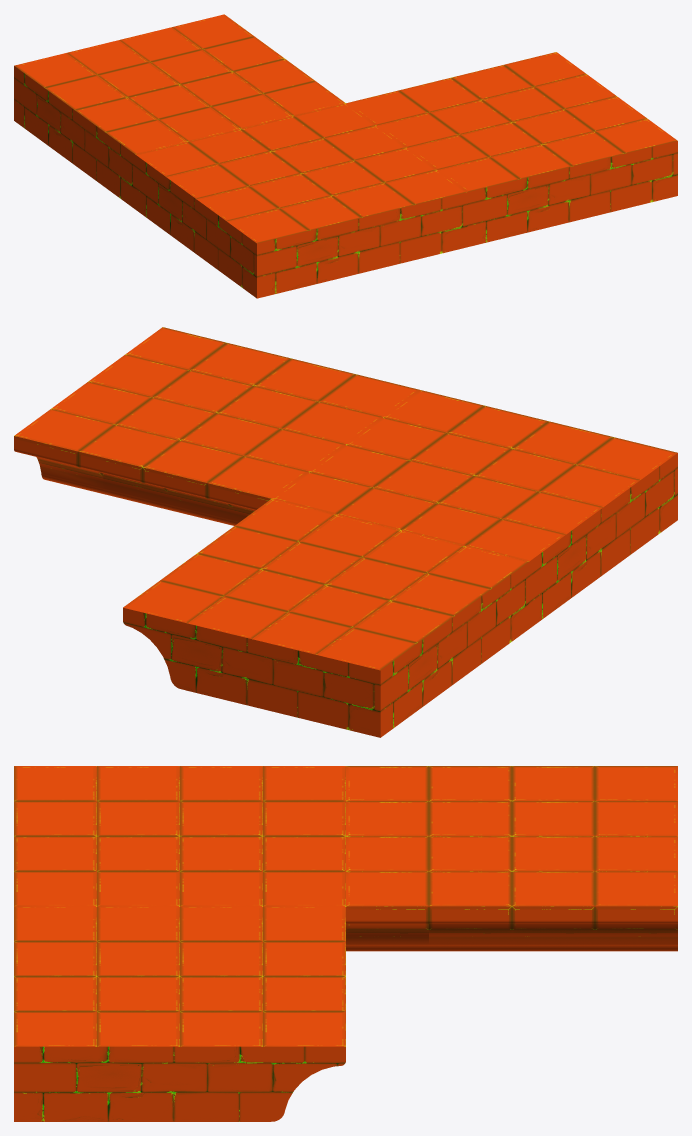
Rendered from Ceiling Corner 03.fbx.
The picture shows the model from 3 angles, top to bottom: view 1: azimuth 30°, elevation 25°; view 2: azimuth 150°, elevation 25°; view 3: azimuth 270°, elevation 25°; orthographic projection. The views are drawn at different scales.
Parts seen in each view (by area): view 1: pCube15; view 2: pCube15; view 3: pCube15.
Part boxes in pixels (x1=…): pCube15: x1=14, y1=14, x2=677, y2=298; pCube15: x1=14, y1=327, x2=677, y2=737; pCube15: x1=14, y1=766, x2=677, y2=1121.
Bounding box in the file's own units: 400 × 50 × 400.
